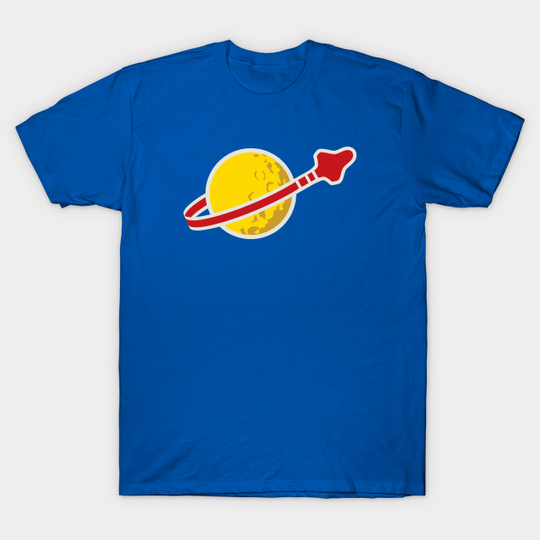design: (181, 142, 358, 241)
